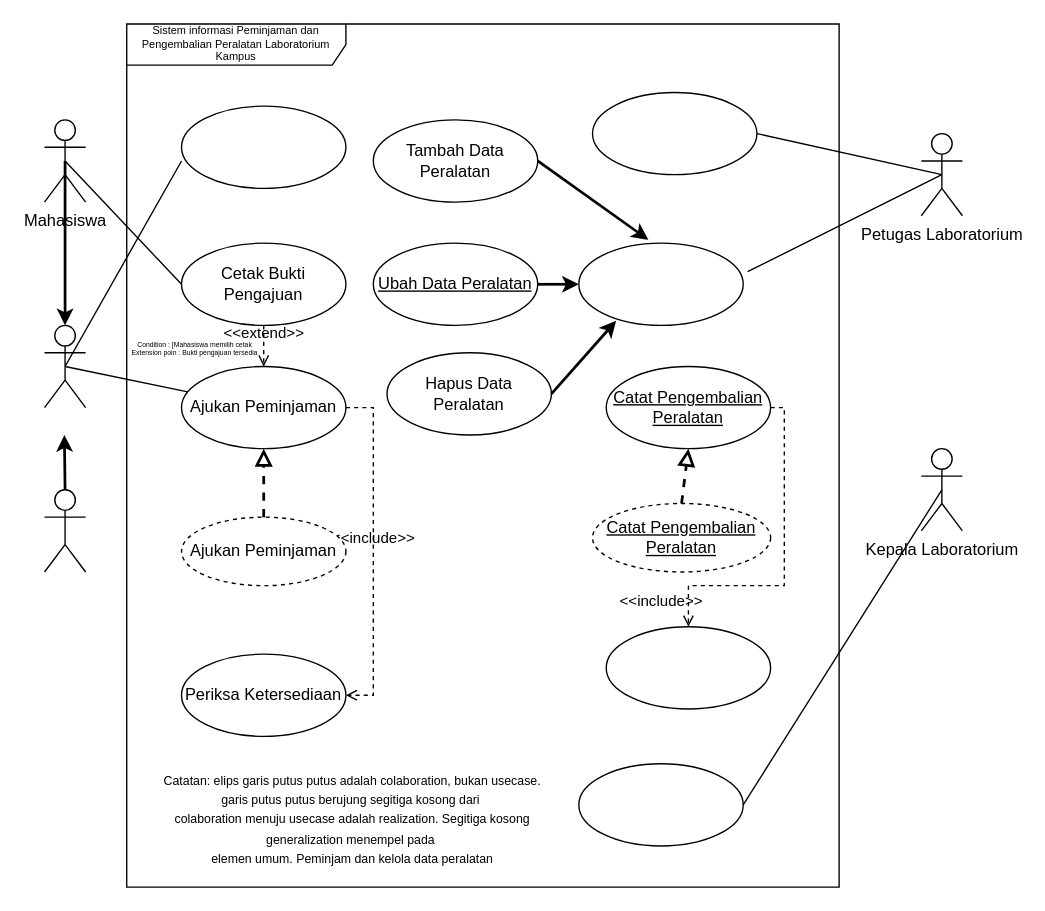
The diagram is 1045 pixels wide and 911 high, and some of its shapes have lost their labels. Here are the shapes that lost their labels. From the top down, the box of each, then its label:
(180, 105, 346, 188): Lihat Ketersediaan Peralatan
(591, 91, 757, 175): Proses Kebutuhan
(577, 242, 743, 325): Kelola Data Peralatan
(43, 324, 86, 408): Peminjam
(43, 488, 86, 572): Dosen
(605, 625, 771, 709): Periksa Kondisi Peralatan
(577, 762, 743, 846): Lihat Laporan Peminjaman
